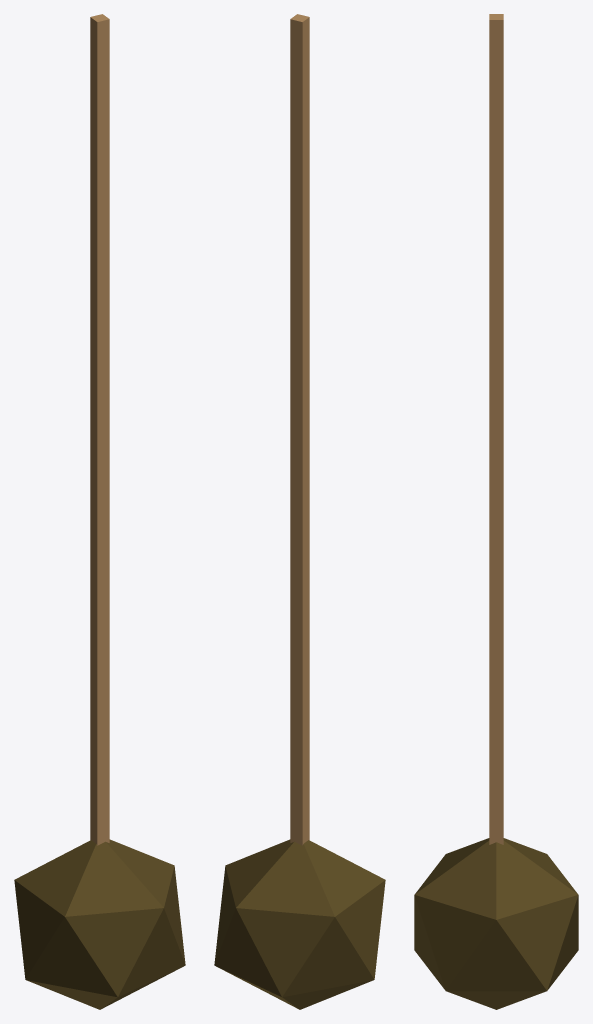
The model's file is ChurchBell_01.fbx.
3 views of the same model, side by side, from view 1: azimuth 30°, elevation 25°; view 2: azimuth 150°, elevation 25°; view 3: azimuth 270°, elevation 25° (orthographic).
Visible parts, largest first — view 1: ChurchBell_01; view 2: ChurchBell_01; view 3: ChurchBell_01.
Part boxes in pixels (x1=…): ChurchBell_01: x1=14, y1=14, x2=185, y2=1009; ChurchBell_01: x1=214, y1=14, x2=385, y2=1009; ChurchBell_01: x1=414, y1=14, x2=578, y2=1009.
Size of the model in its own units: 0.1549 by 0.9841 by 0.1474.
